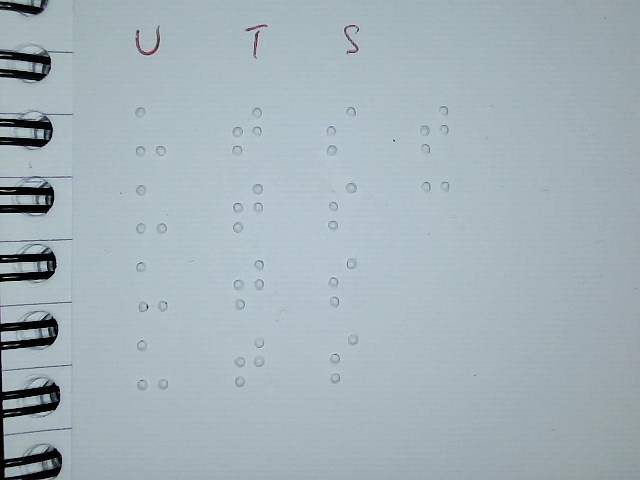S: (324, 104, 358, 157), (326, 179, 360, 232), (326, 255, 360, 308), (327, 332, 361, 385)
T: (230, 105, 264, 158), (231, 181, 265, 234), (232, 257, 266, 310), (233, 335, 267, 388)
U: (134, 104, 168, 157), (134, 182, 168, 235), (135, 259, 169, 312), (136, 338, 170, 391)
